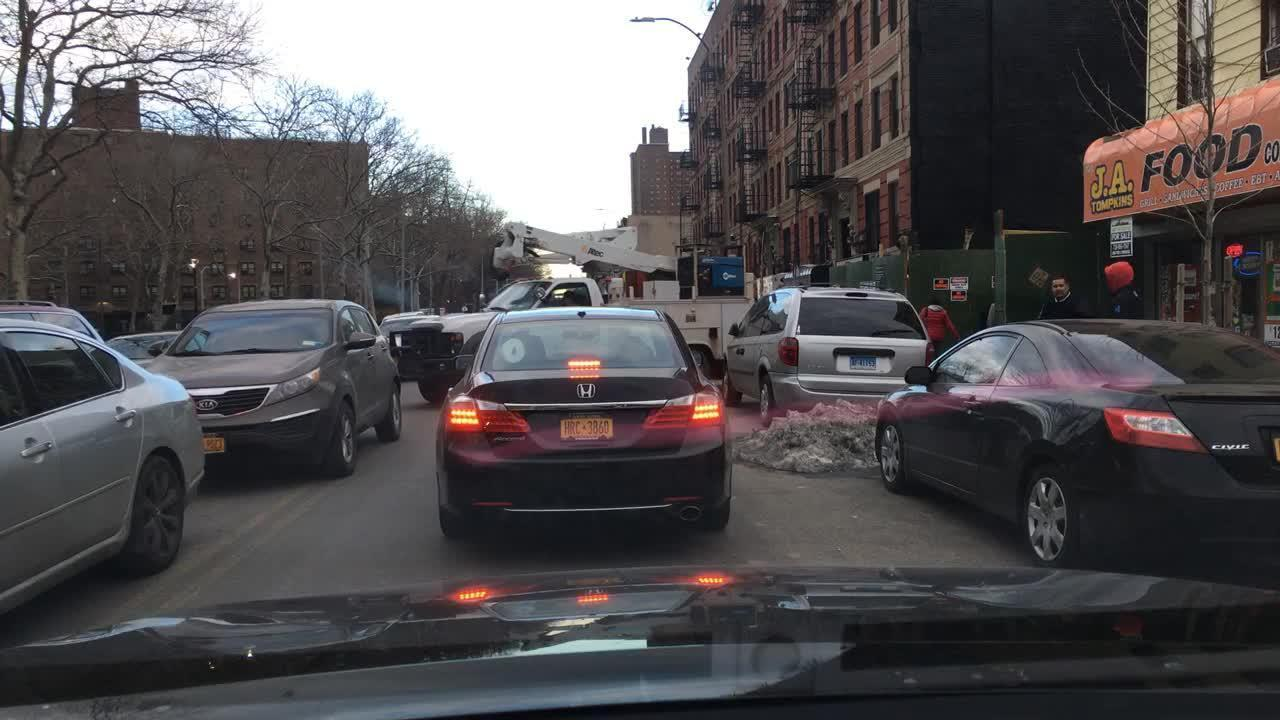Honda: (571, 377, 603, 407)
kia: (190, 396, 221, 414)
